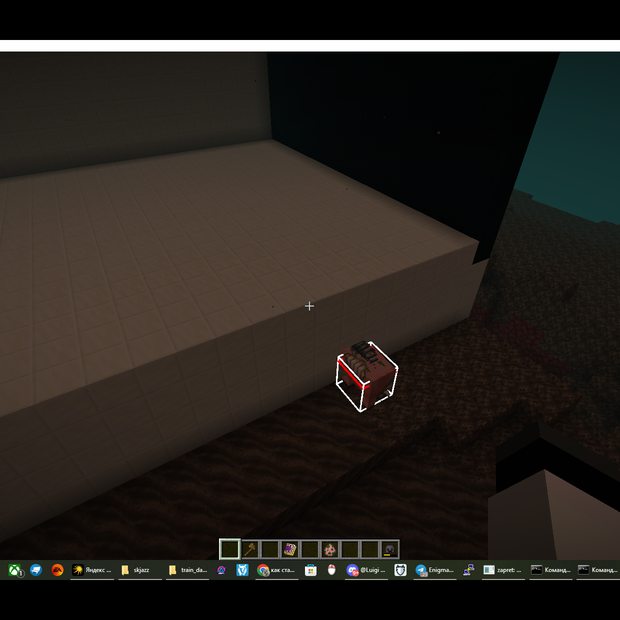target: (335, 341, 398, 412)
